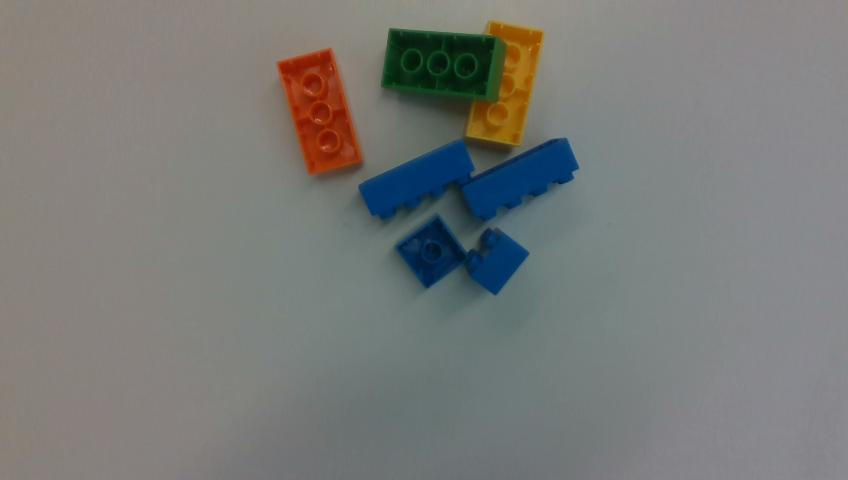2x2_blue: (396, 215, 465, 287), (466, 228, 528, 294)
4x2_blue: (462, 139, 578, 220), (359, 140, 474, 219)
4x2_green: (382, 28, 506, 101)
4x2_orange: (278, 49, 360, 174)
4x2_yellow: (465, 21, 542, 146)
